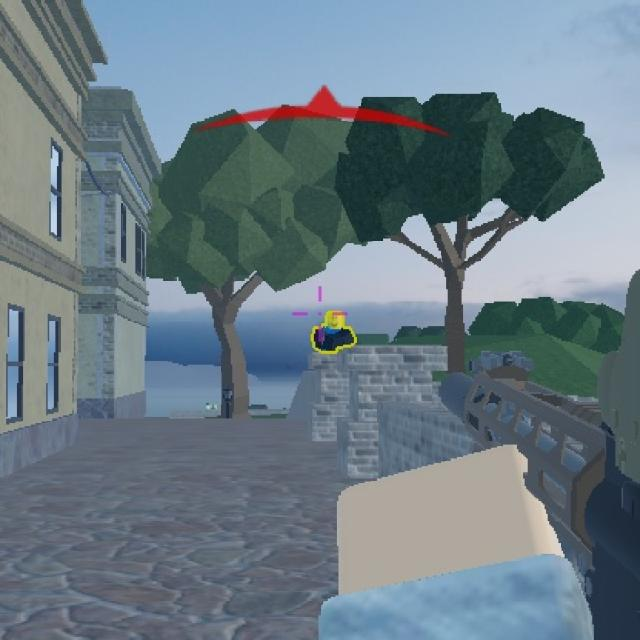player: (313, 313, 346, 356)
